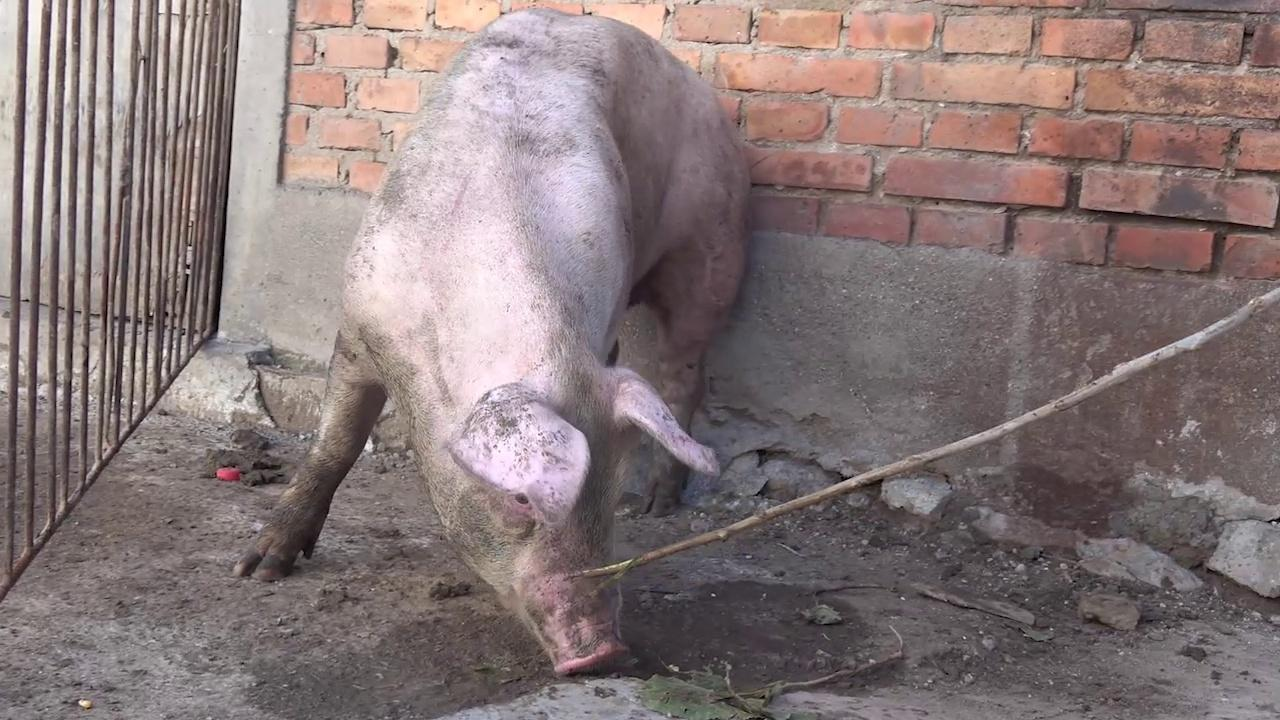Face: (396, 357, 732, 677)
